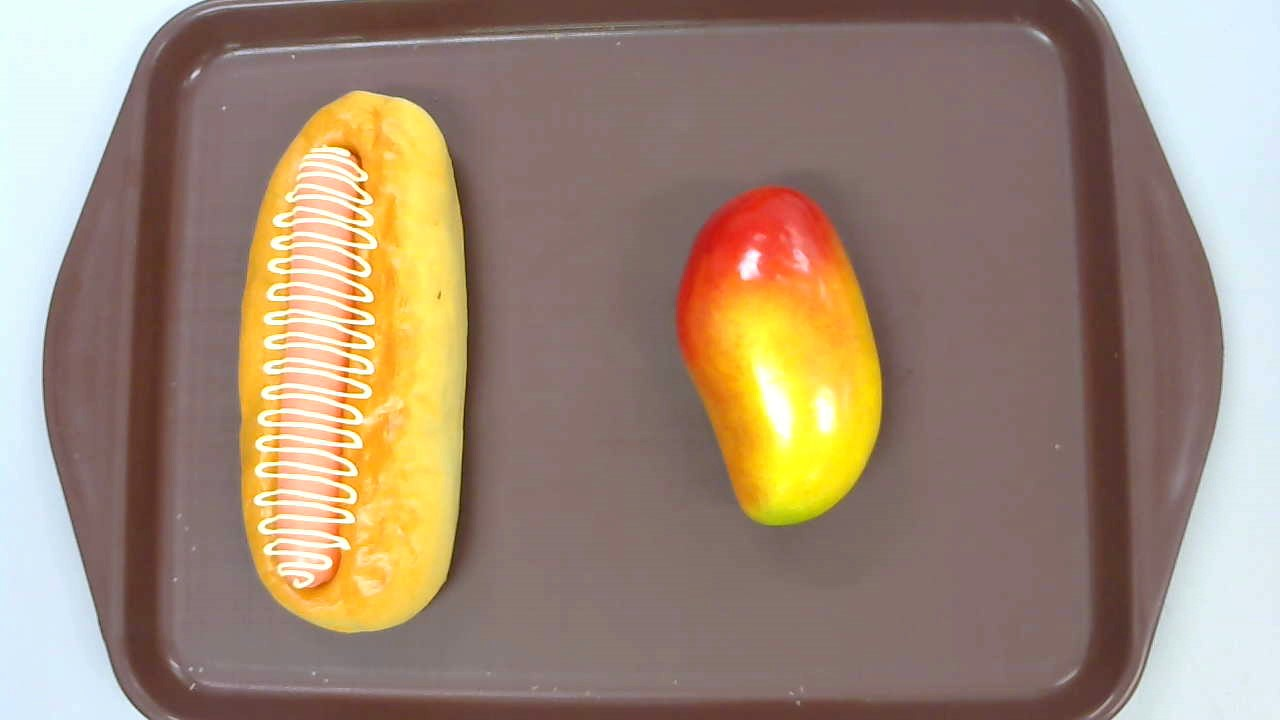hot dog: (234, 90, 468, 633)
red mango: (676, 185, 883, 526)
